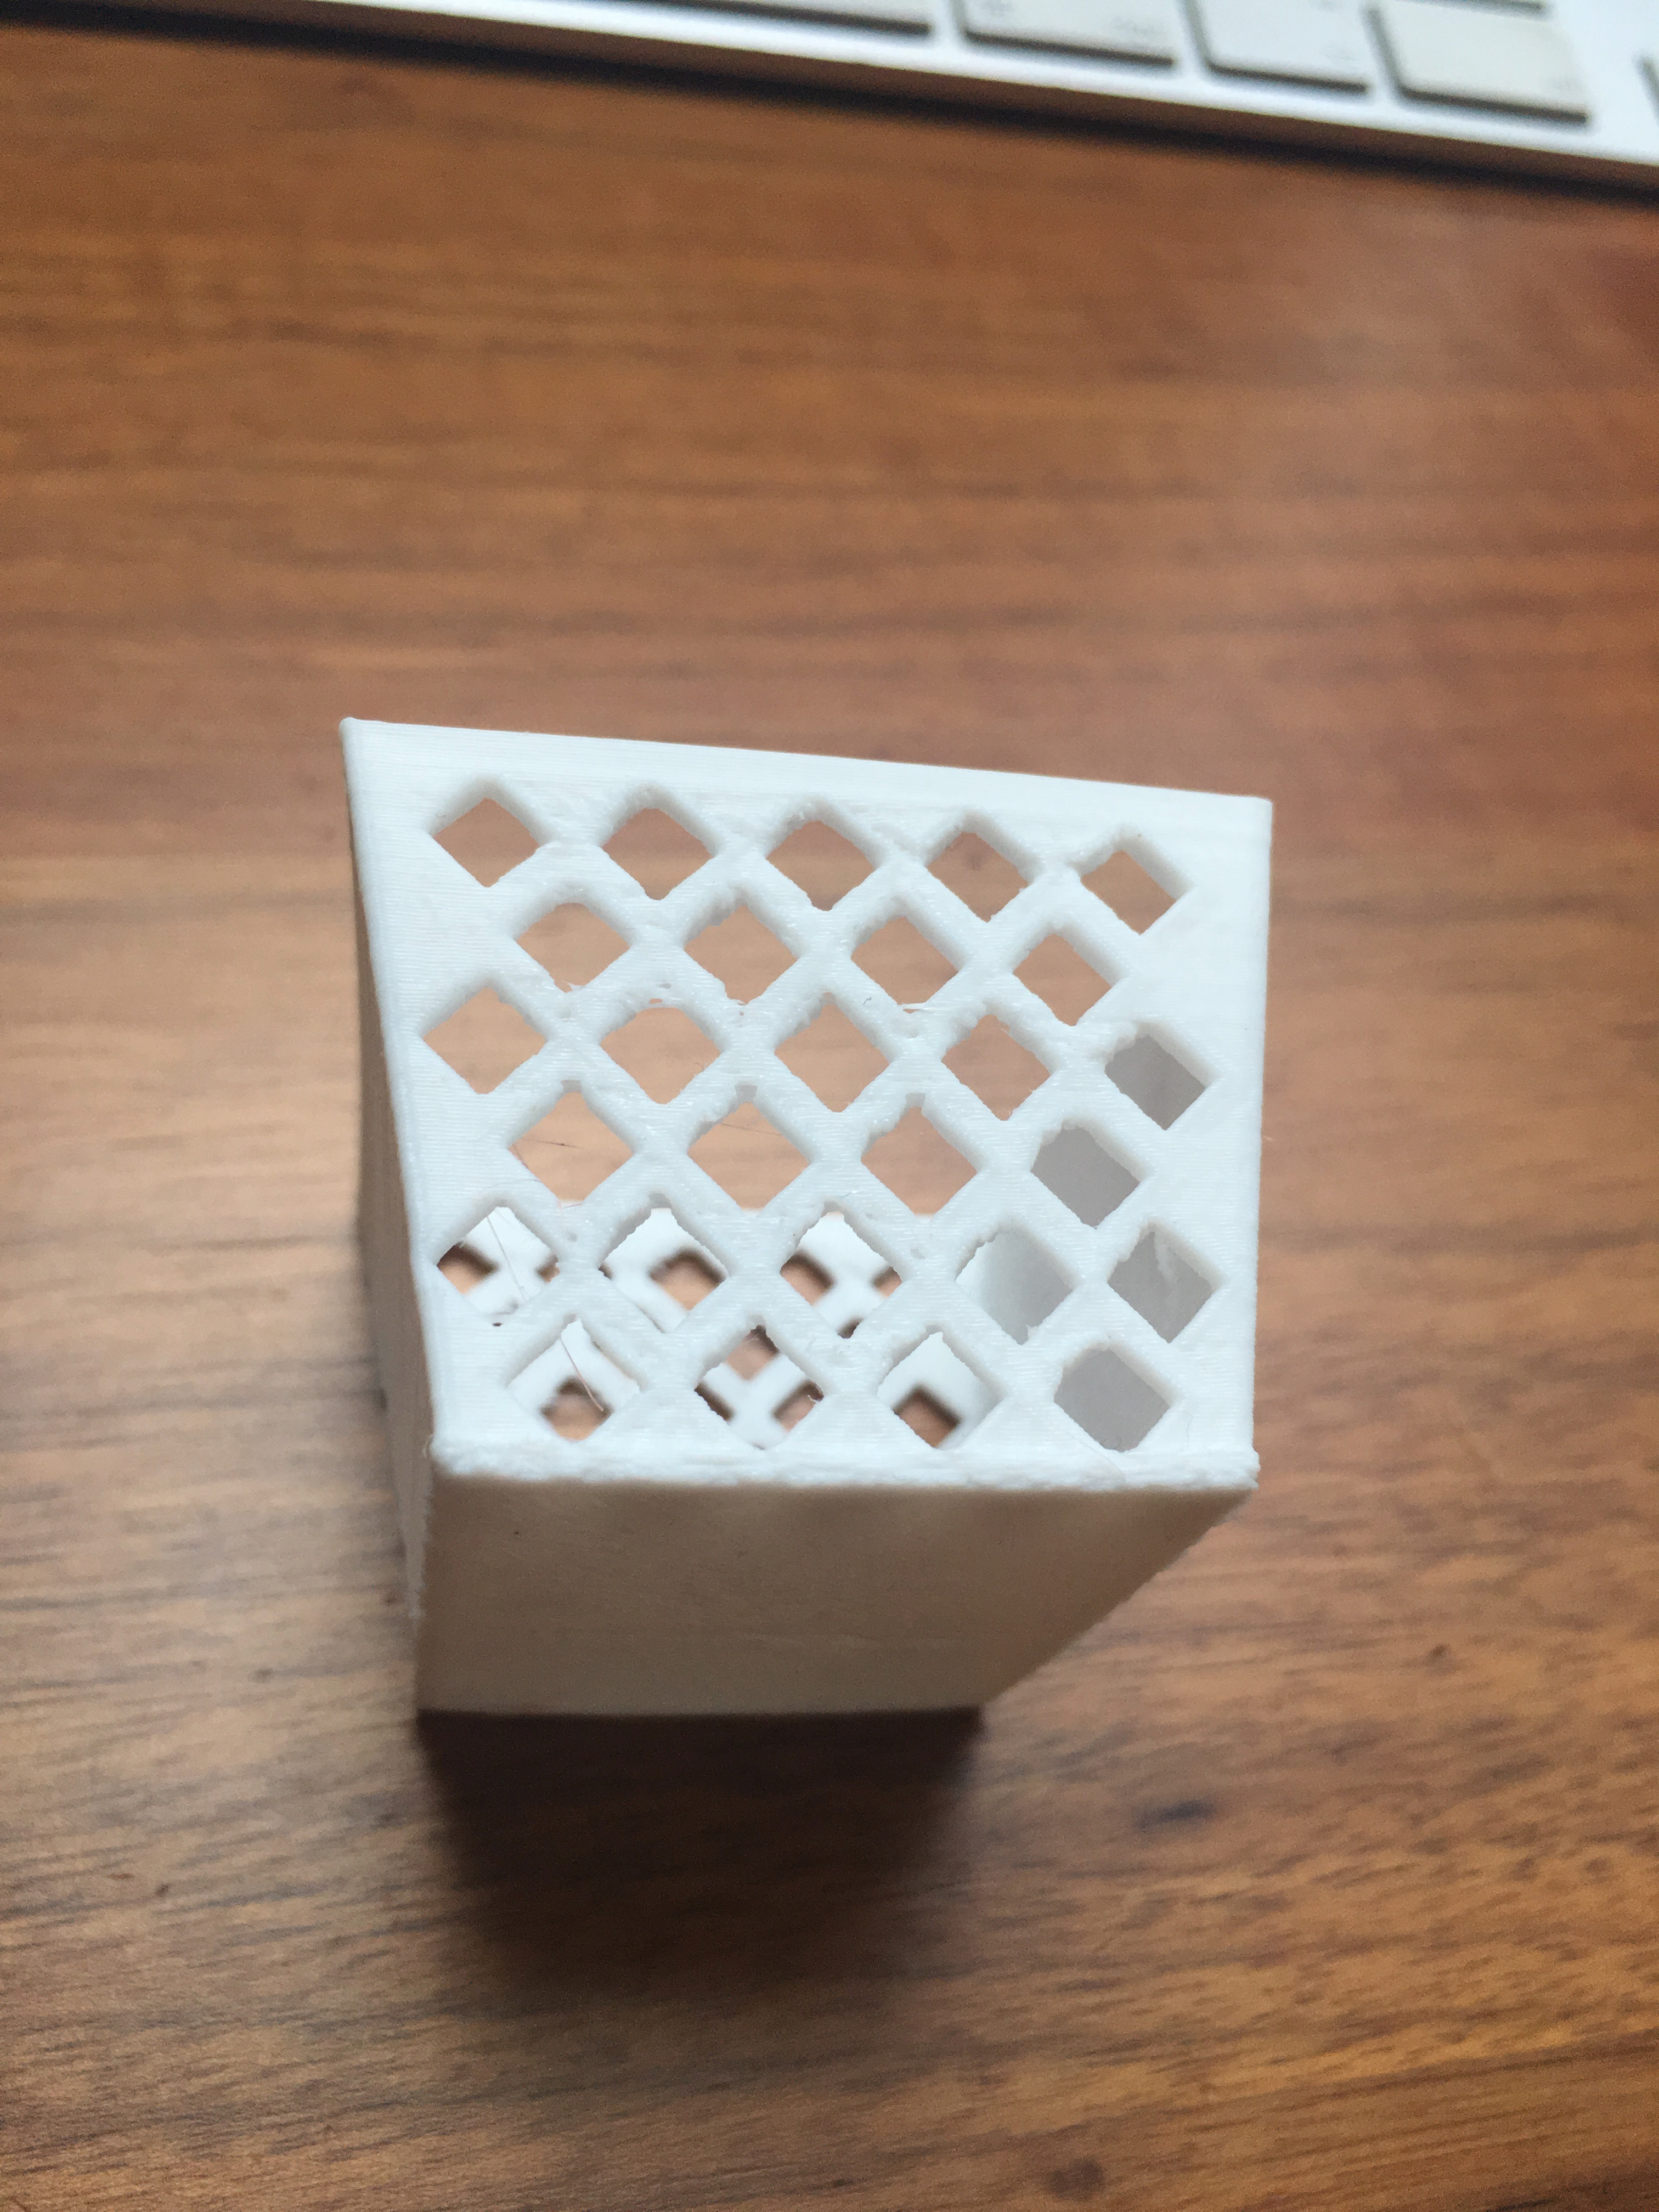3dpstringing: (544, 1322, 613, 1414), (885, 982, 962, 1050), (474, 1204, 526, 1284), (1136, 1228, 1202, 1287)
3dpunderextrusion: (544, 1202, 617, 1277), (884, 1217, 957, 1291), (638, 954, 714, 1021), (504, 1000, 591, 1038)
